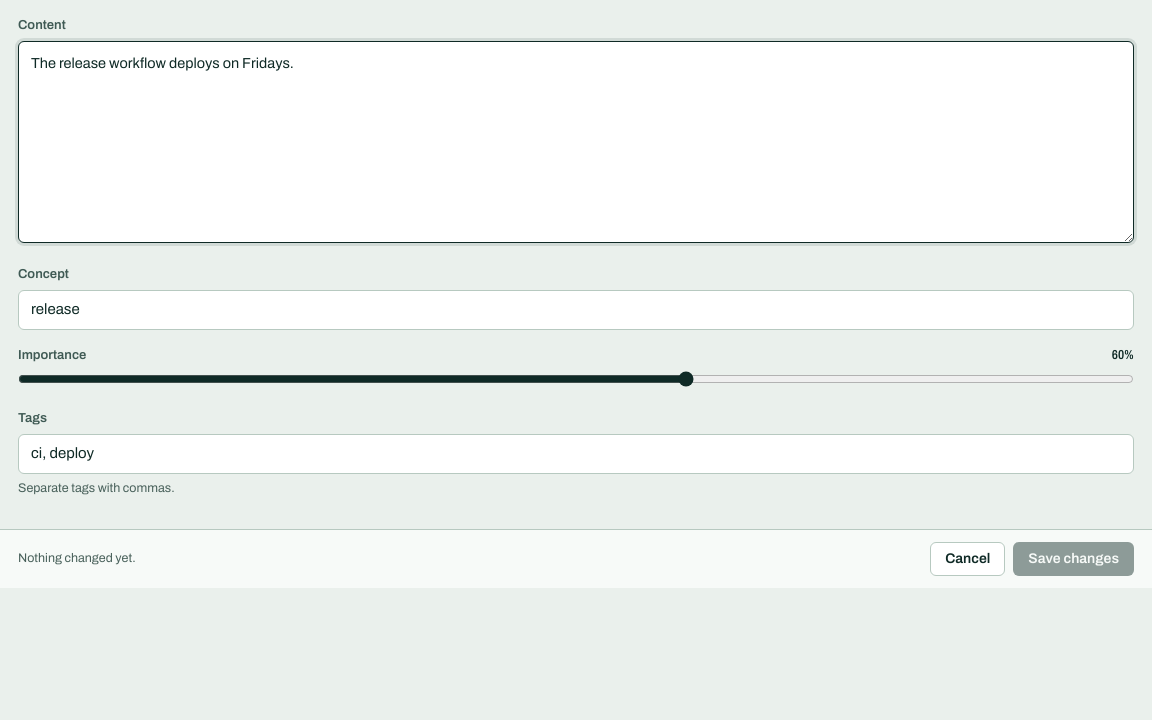
MemoryEdit › keeps the draft and says why when saving fails
Replace the text in the field labelled "Tags" with "ci" at (576, 454), box [18,434,1134,474]
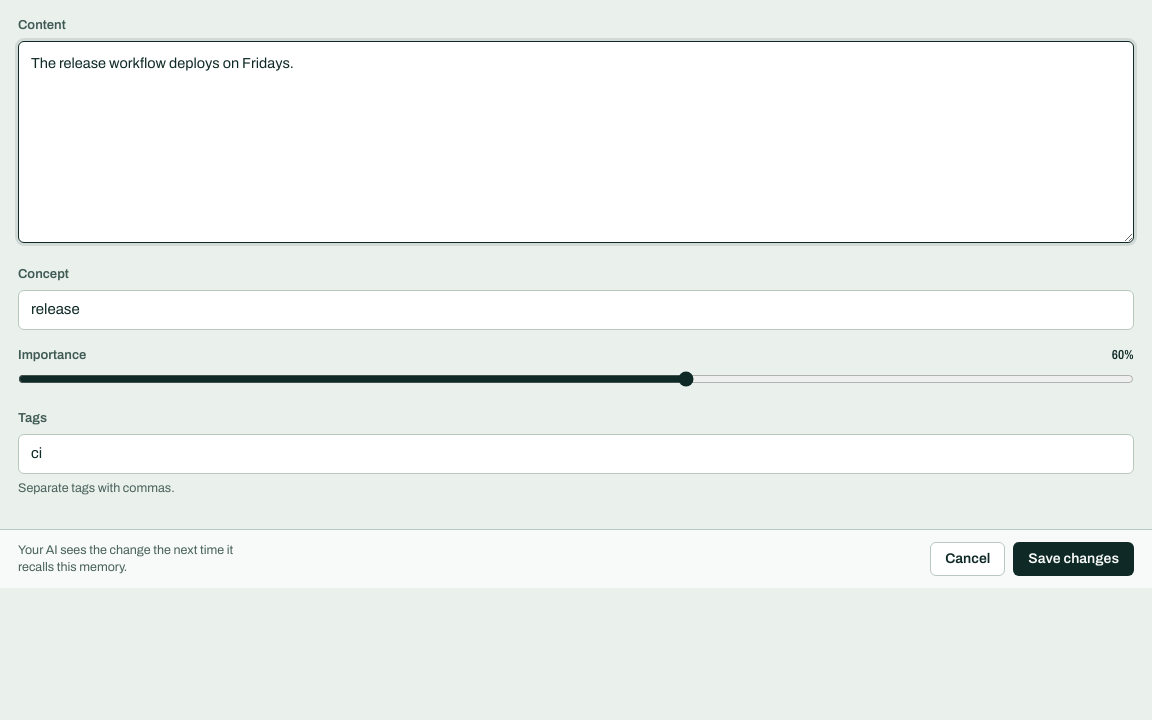
Click the button "Save changes" at (1074, 559), box [1013,542,1134,576]
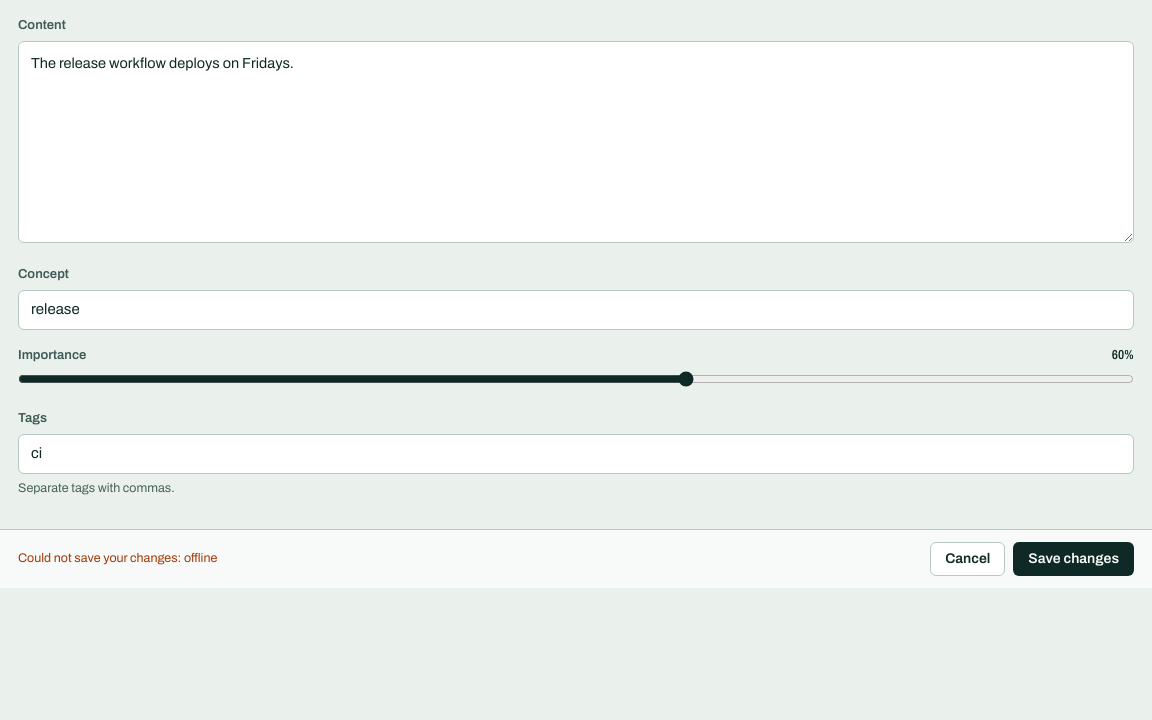
Check: the message reads "Could not save your changes: offline", box [18,551,217,565]
